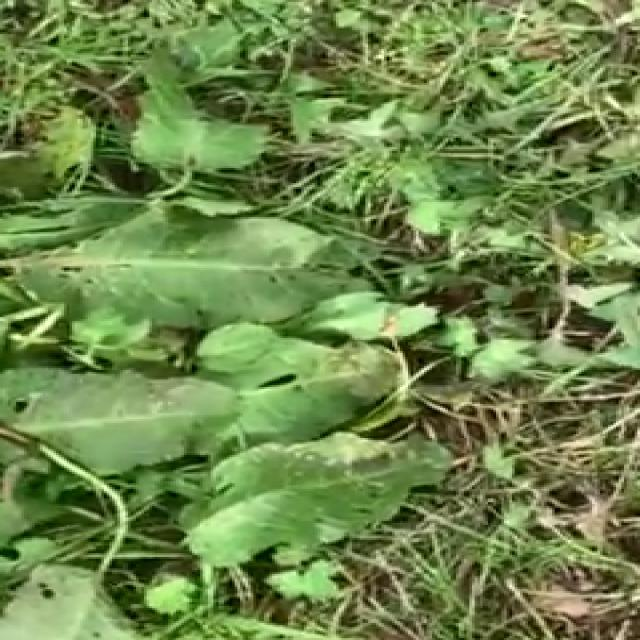organic waste: (0, 70, 523, 593)
